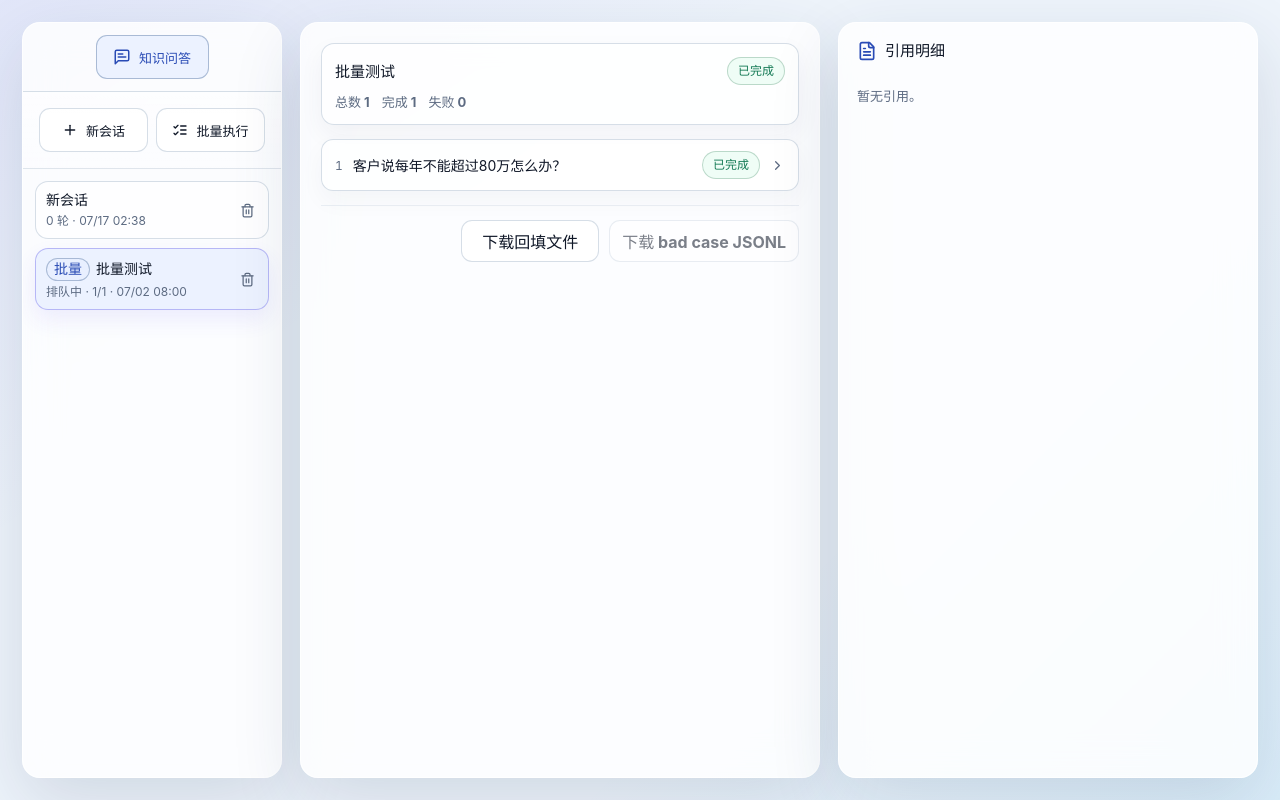
Test: 批量会话轮询进度直到终态并展示行状态
Expected: the text "完成 1" is shown, [382, 93, 416, 111]
Expected: the 1st text "已完成" is shown, [727, 57, 785, 85]
// 点击行进入会话式详情屏可看到模型答案。
Click the button "1 客户说每年不能超过80万怎么办？ 已完成". click: click(560, 165)
box: [321, 139, 799, 191]
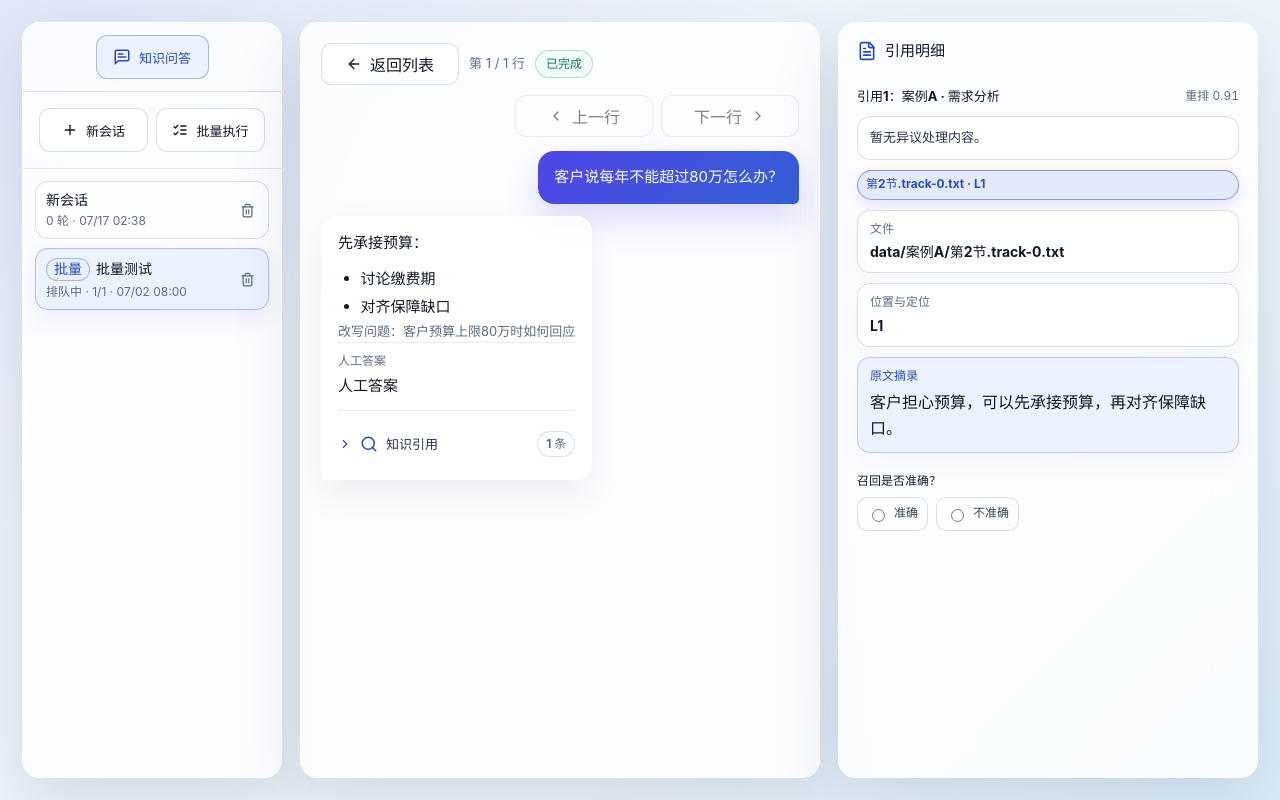
Now the 1st text "人工答案" is shown, box [338, 353, 386, 368]
Now the button "返回列表" is shown, box [321, 43, 459, 85]
